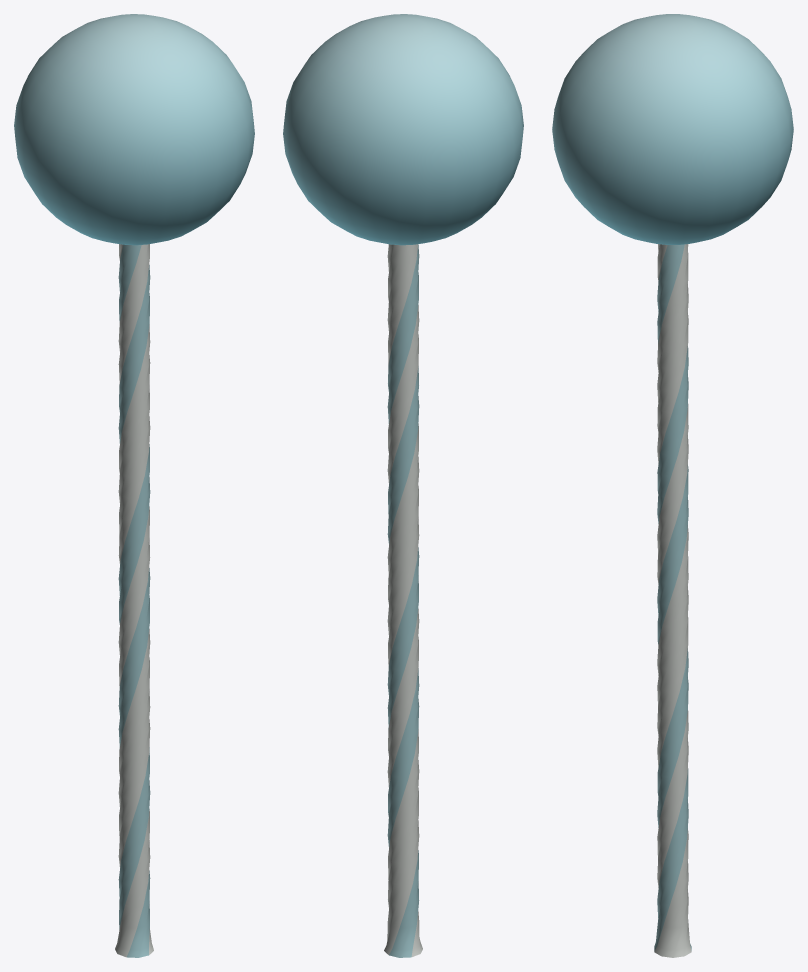
File: lollipop_tree_b.glb
3 views of the same model, side by side, from view 1: azimuth 30°, elevation 25°; view 2: azimuth 150°, elevation 25°; view 3: azimuth 270°, elevation 25° (orthographic).
Visible parts, largest first — view 1: lollipop_tree_b; view 2: lollipop_tree_b; view 3: lollipop_tree_b.
Part boxes in pixels (<box>): lollipop_tree_b: <box>14,14,254,957</box>; lollipop_tree_b: <box>283,14,523,957</box>; lollipop_tree_b: <box>552,14,793,957</box>.
Size of the model in its own units: 1.29 by 5.48 by 1.3.
